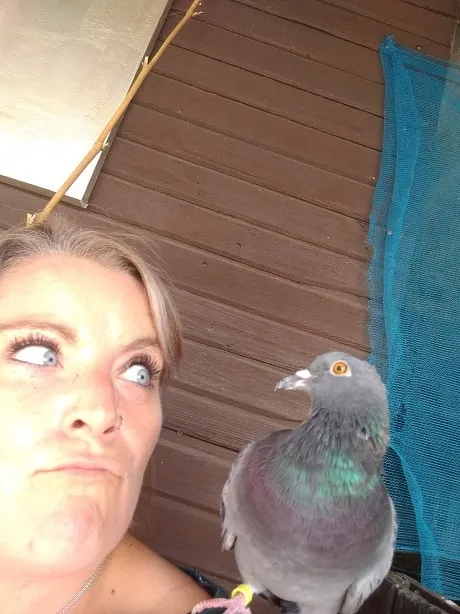Flying Rat: (222, 343, 416, 614)
